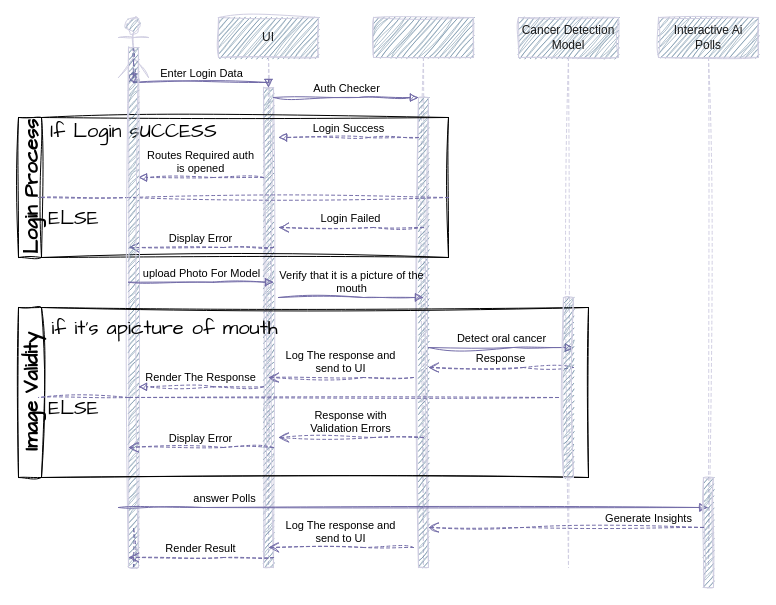
Image size: 776x605. Some labels were removed from this diagram. The shapes that lost their labels are listed below. From the top down, each one's box as (x1, y1, x2, y2) in pixels, then its label:
(118, 16, 148, 78): User
(372, 16, 474, 568): Server
